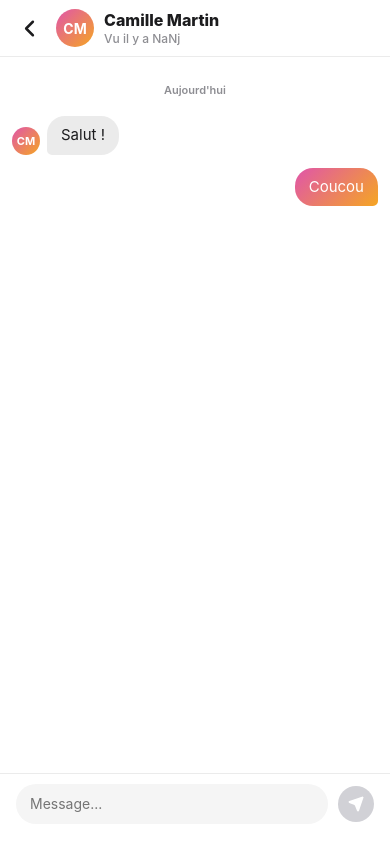
Scenario: ConversationScreen — gestes sur les messages › un double-tap ajoute ❤️
Press the mouse on the text "Salut !" at (83, 135), box [47,116,119,155]
Press the mouse on the text "Salut !" at (83, 135), box [47,116,119,155]
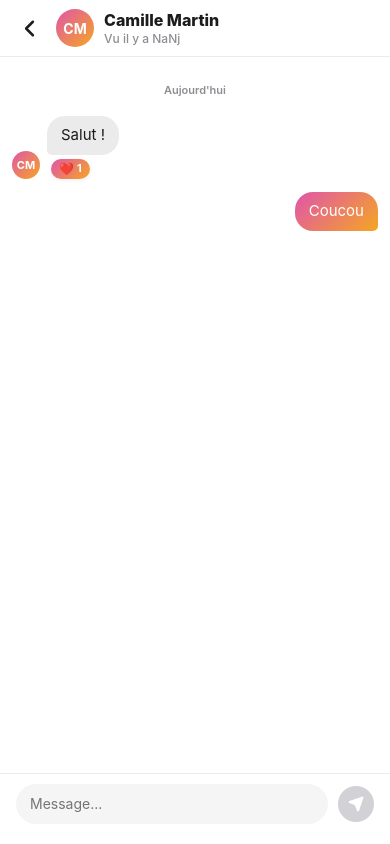
Now the button named "❤️ 1, retirer ma réaction" is shown, box [51,159,90,179]
